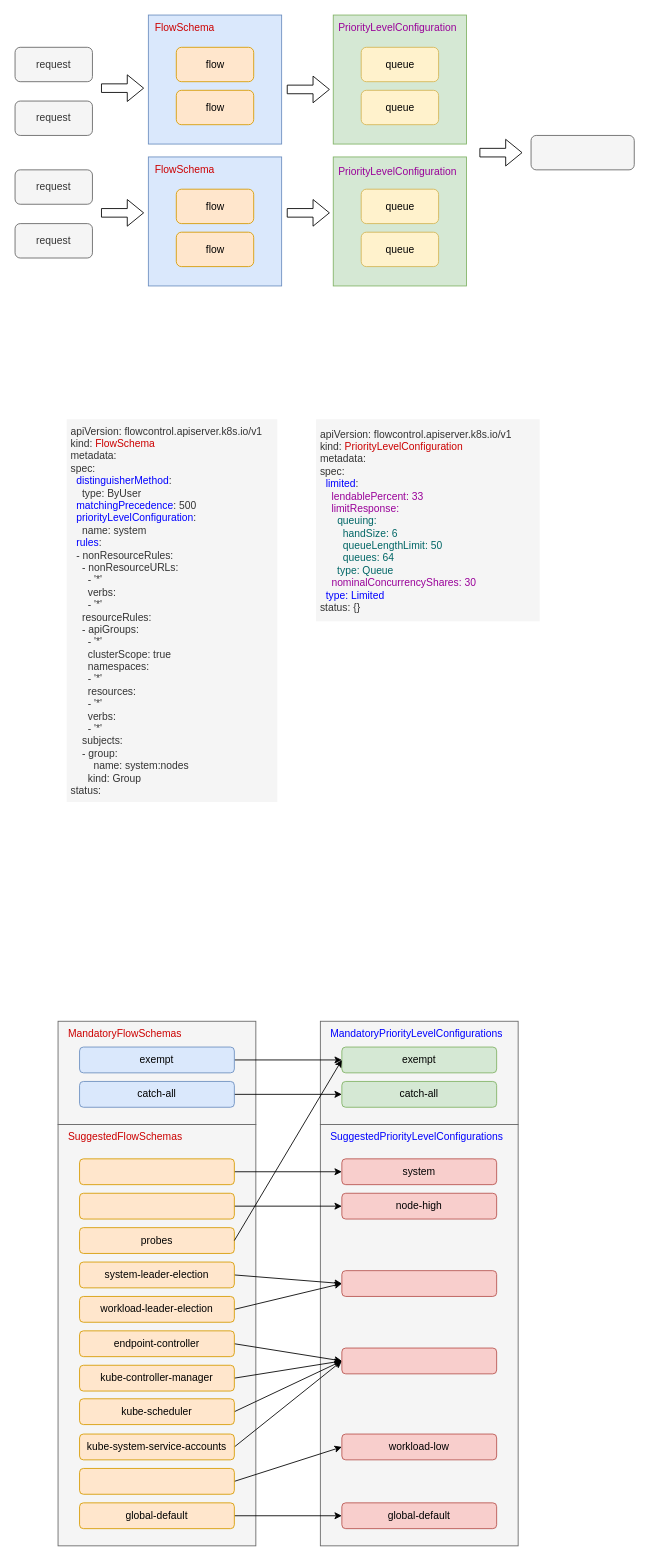
Some shapes in this 649 by 1561 pixel diagram are drawn without their labels. Each missing label, with the box of its shape:
leader-election: (341, 1270, 497, 1296)
processing request: (530, 135, 634, 170)
service-accounts: (79, 1468, 234, 1494)
system-node-high: (79, 1192, 234, 1219)
system-nodes: (79, 1158, 234, 1185)
workload-high: (341, 1347, 497, 1374)
